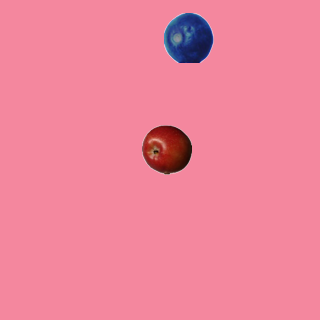Apple Braeburn: (141, 124, 191, 174)
Huckleberry: (163, 12, 213, 62)
